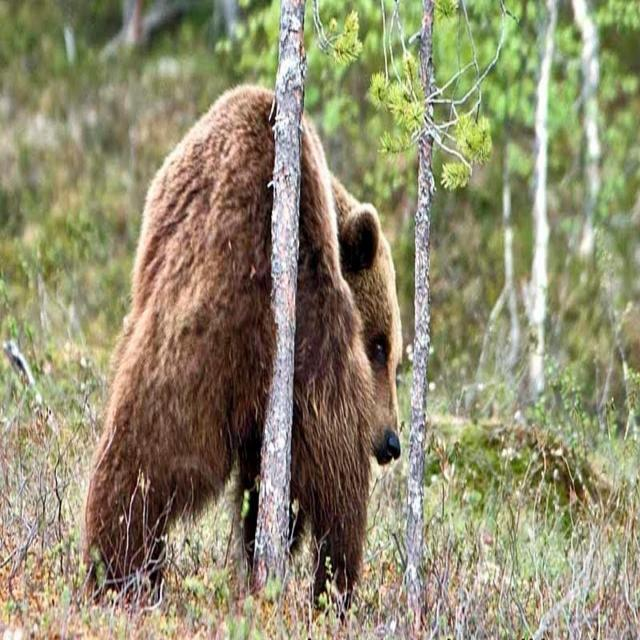Bear: (85, 52, 400, 608)
